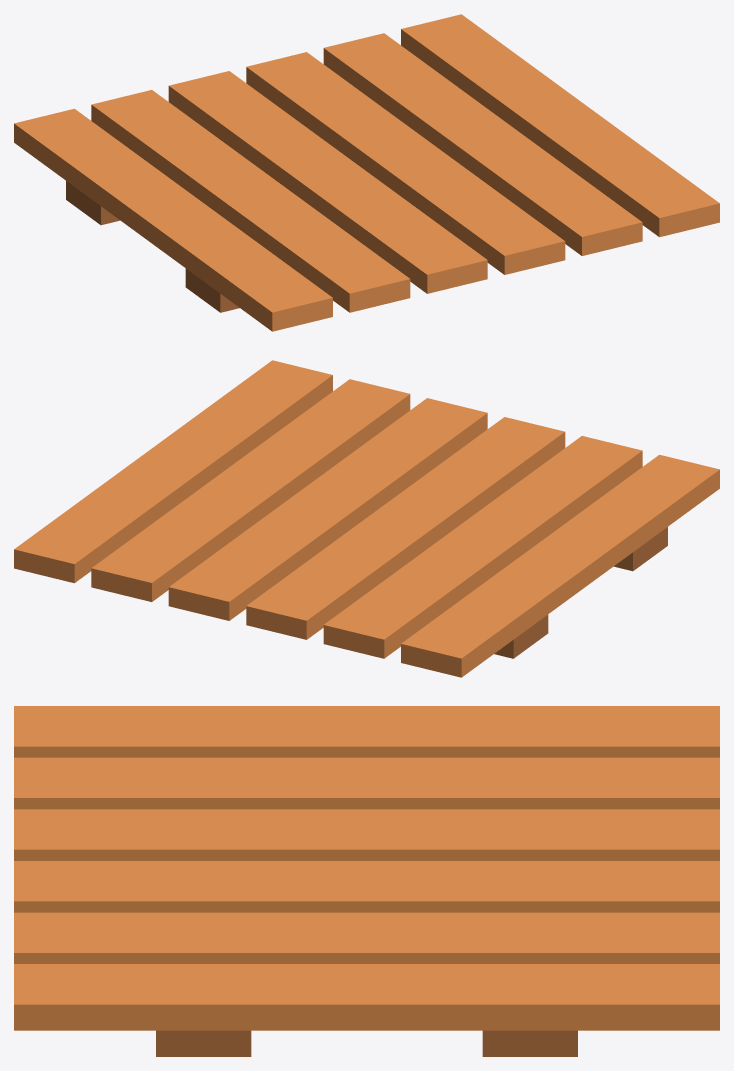
Rendered from Floor.glb.
The picture shows the model from 3 angles, top to bottom: view 1: azimuth 30°, elevation 25°; view 2: azimuth 150°, elevation 25°; view 3: azimuth 270°, elevation 25°; orthographic projection. The views are drawn at different scales.
Parts seen in each view (by area): view 1: floor; view 2: floor; view 3: floor.
Part boxes in pixels (bbox=[...]): floor: bbox=[14, 14, 719, 331]; floor: bbox=[14, 360, 719, 677]; floor: bbox=[14, 706, 719, 1056].
Size of the model in its own units: 0.4893 by 0.04 by 0.4893.
